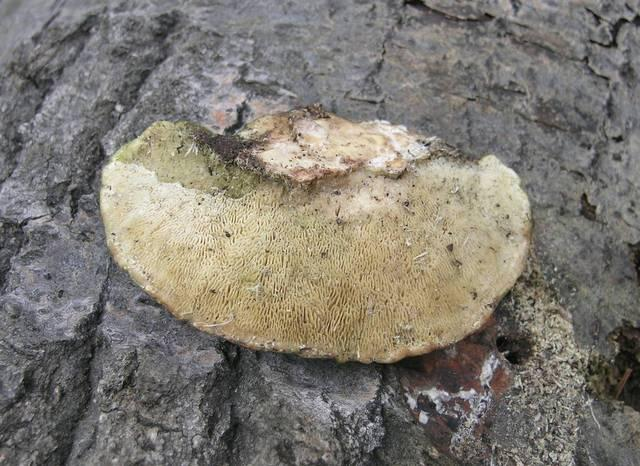Non-edible Mushroom: (97, 102, 534, 365)
